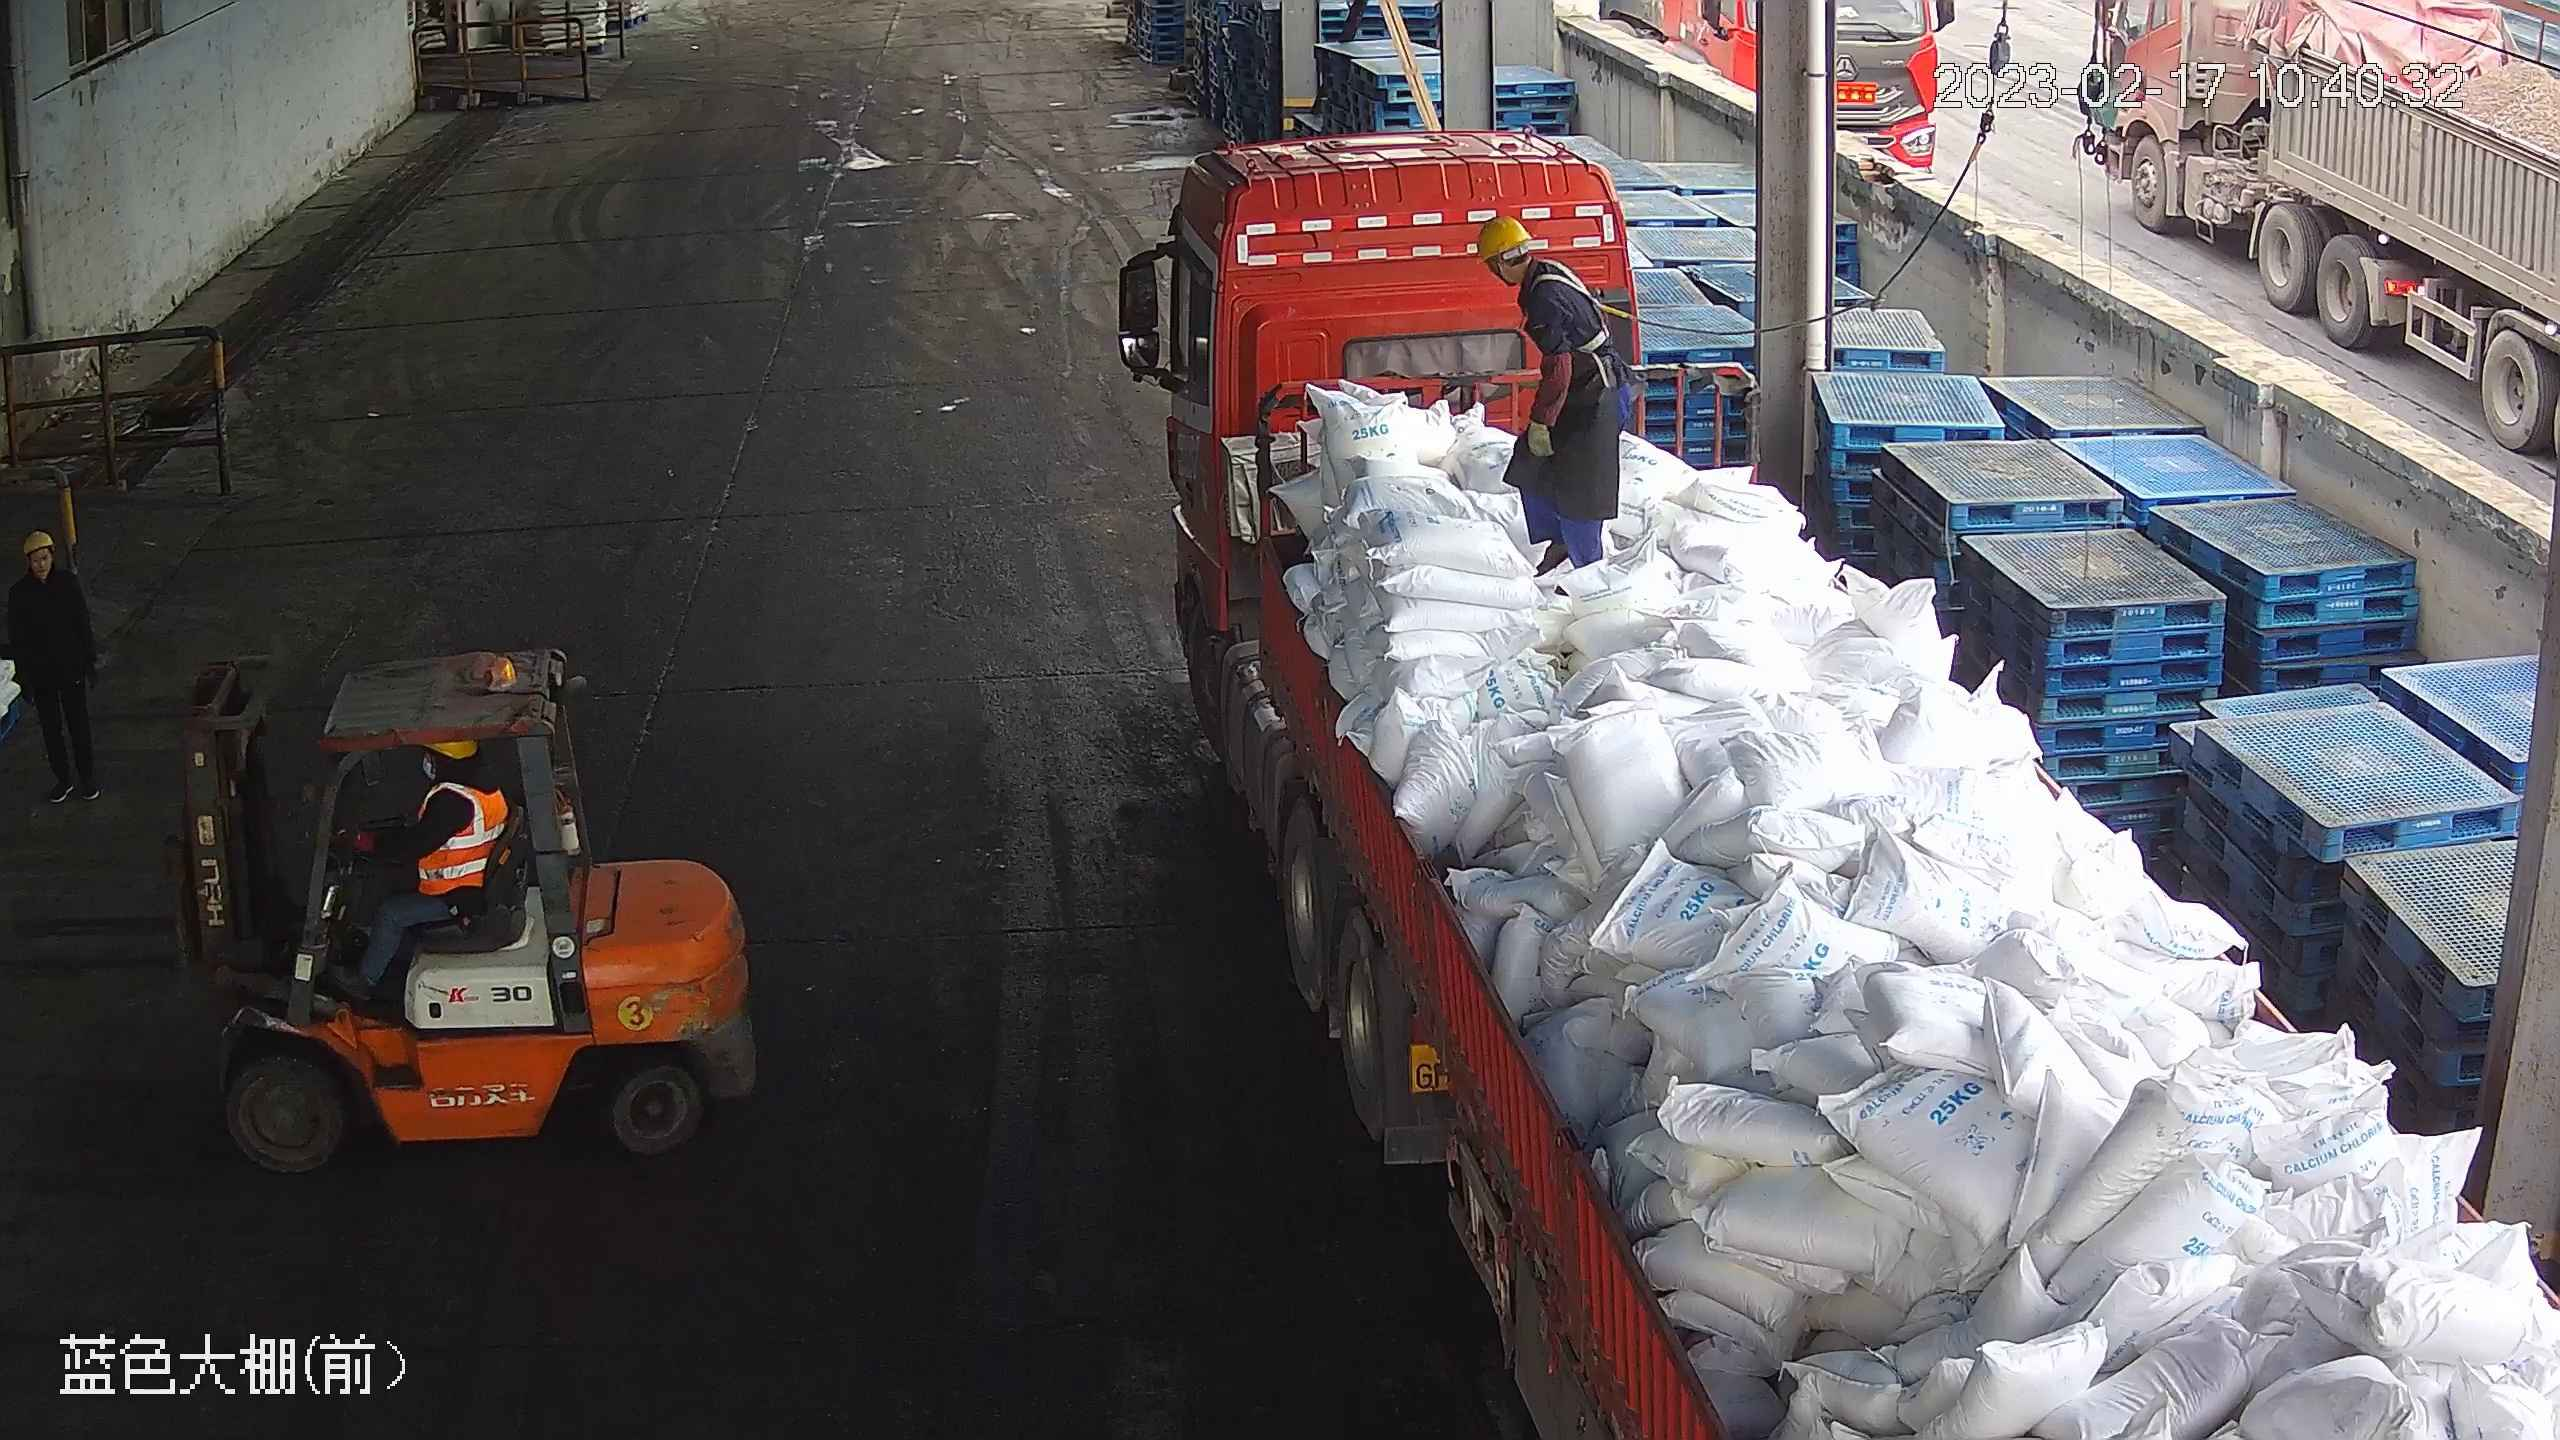belt: (1528, 252, 1621, 358)
head: (1474, 213, 1595, 325), (404, 733, 504, 828), (5, 530, 89, 618)
helmet: (1474, 214, 1533, 262), (19, 531, 51, 554)
people: (1471, 212, 1629, 574), (336, 728, 517, 1004), (4, 526, 115, 809)
truck: (1108, 125, 2558, 1436), (2083, 1, 2551, 476)
